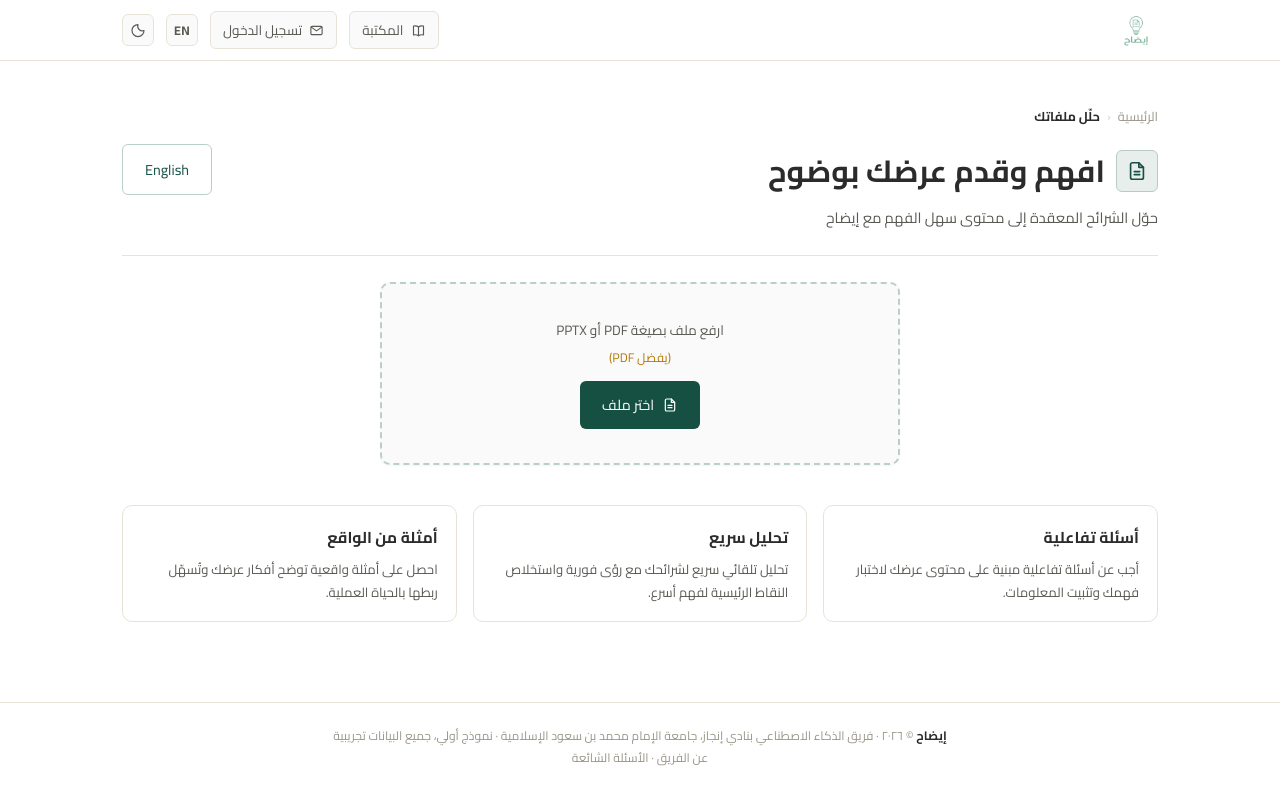
Scenario: toggling language switches the headline to English and persists it
Click the button "English" at (167,170), box [122,144,212,195]
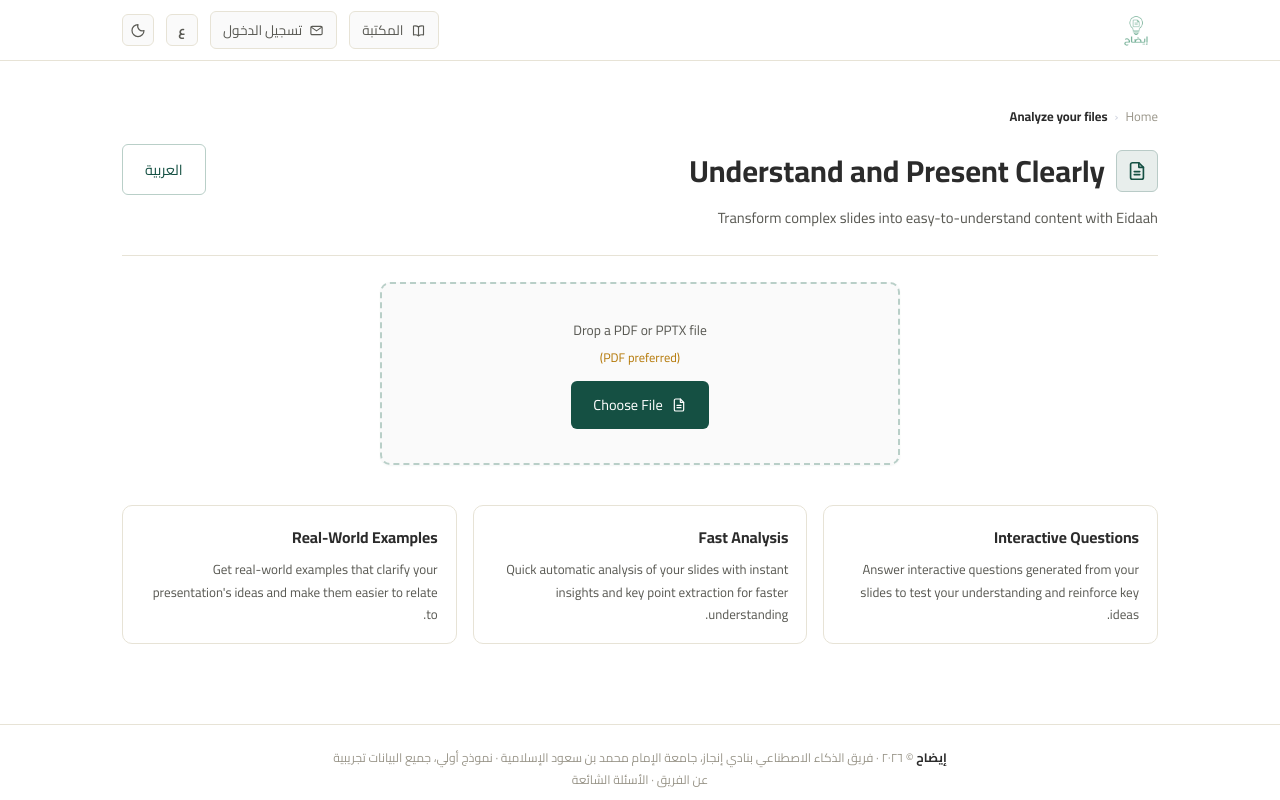
Expected: the heading "Understand and Present Clearly" is shown, [689,144,1158,199]
